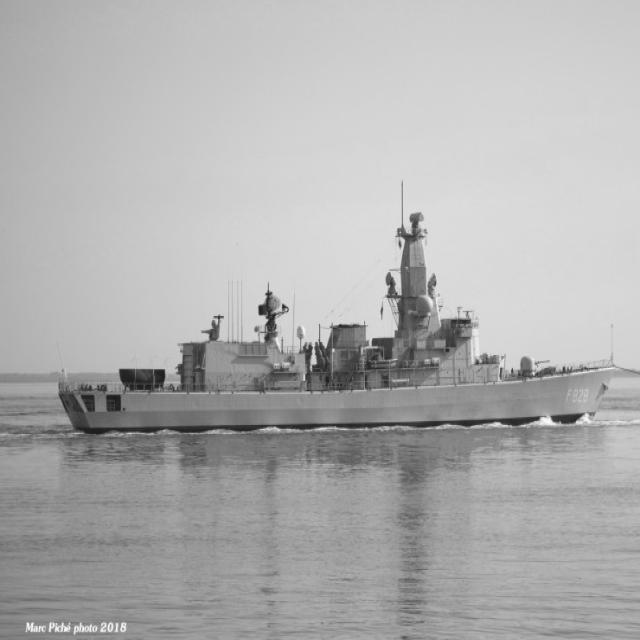Fragata: (51, 176, 620, 445)
